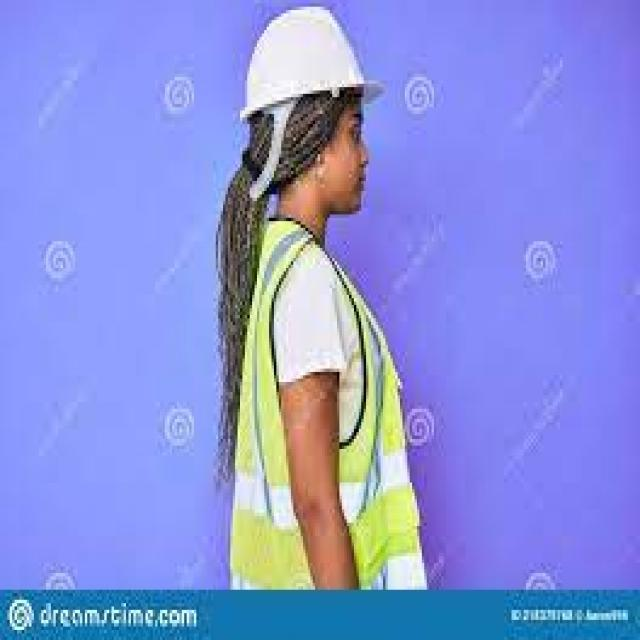Reflective-Jacket: (218, 222, 427, 586)
Safety-Helmet: (235, 0, 386, 131)
